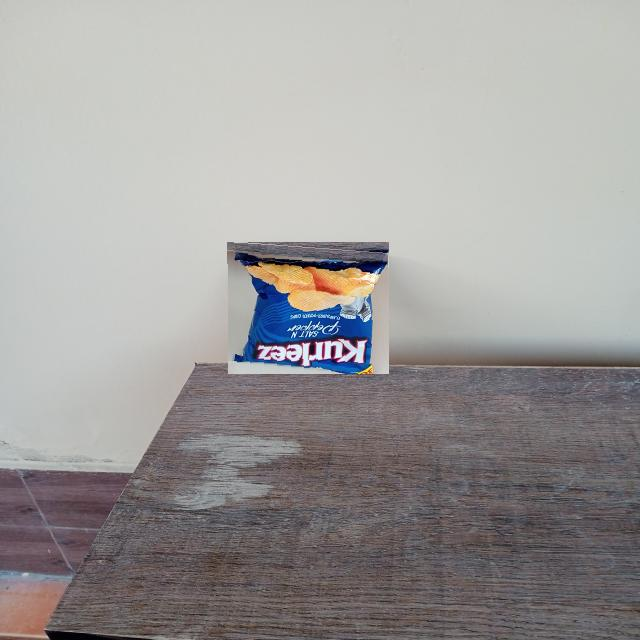Plastic: (228, 241, 390, 374)
